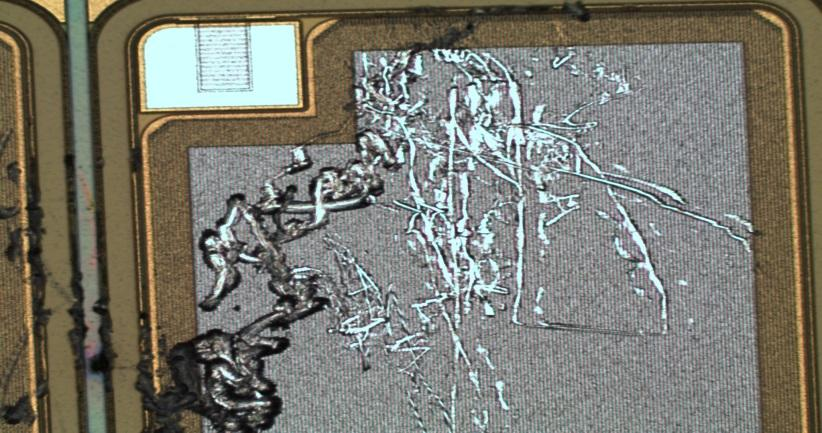SCRATCH: (1, 1, 771, 433)
